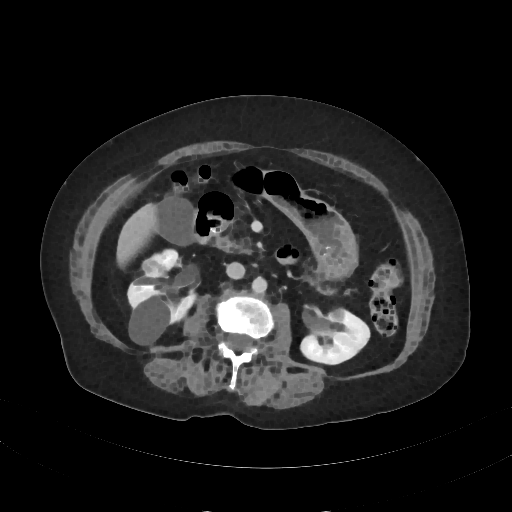Lesion: (128, 294, 172, 349), (139, 257, 168, 277)
